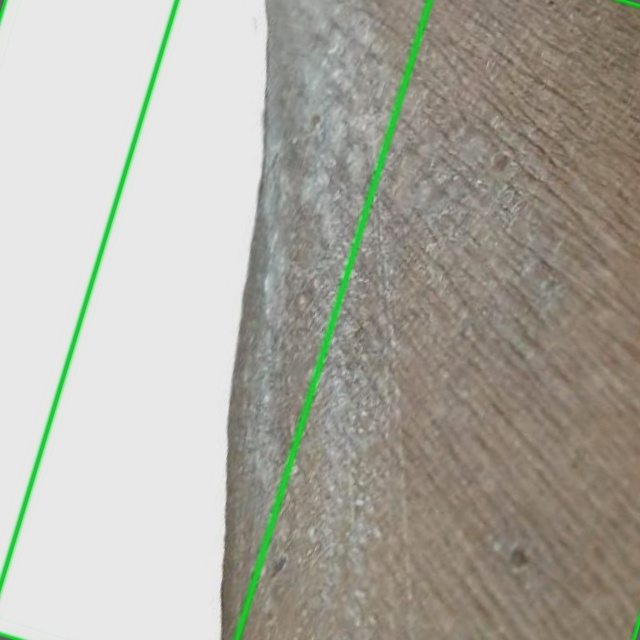Eczema: (0, 0, 639, 639), (0, 0, 429, 639)
